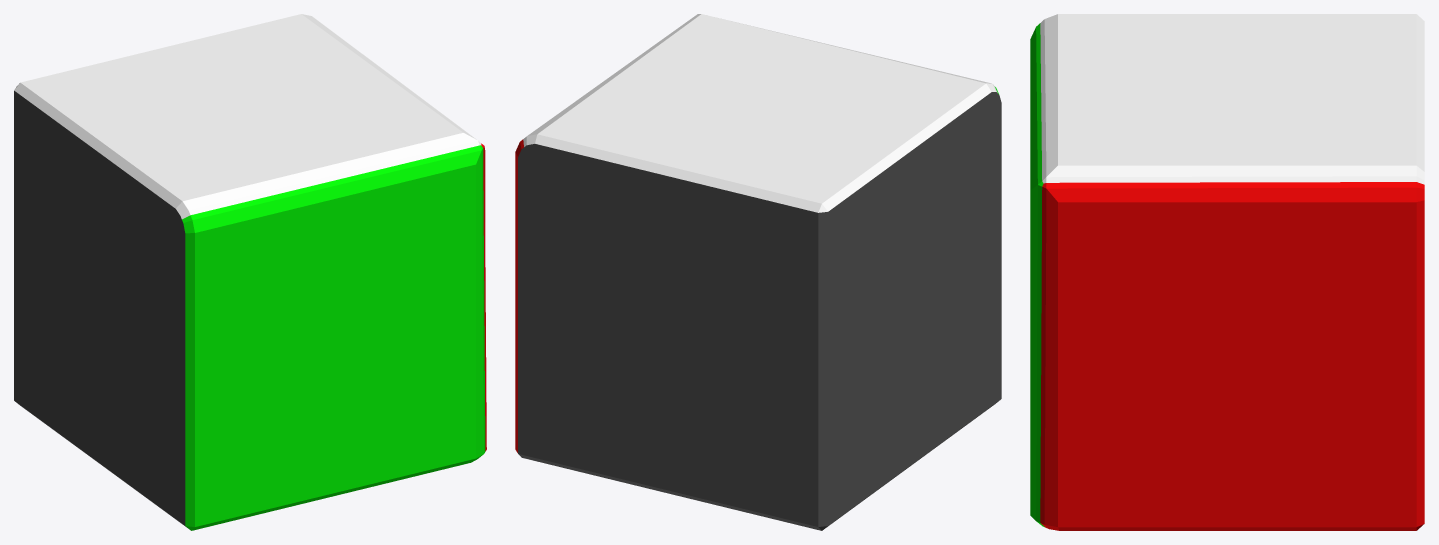
Rendered from corner.glb.
3 renders of one model, left to right at view 1: azimuth 30°, elevation 25°; view 2: azimuth 150°, elevation 25°; view 3: azimuth 270°, elevation 25°, orthographic. The views are drawn at different scales.
Visible parts, largest first — view 1: corner; view 2: corner; view 3: corner.
Boxes of the visible parts, x1,y1,x2,y2 form: corner: (14, 14, 486, 530); corner: (515, 14, 1001, 530); corner: (1030, 14, 1424, 530).
Bounding box in the file's own units: 1 × 1 × 1.
